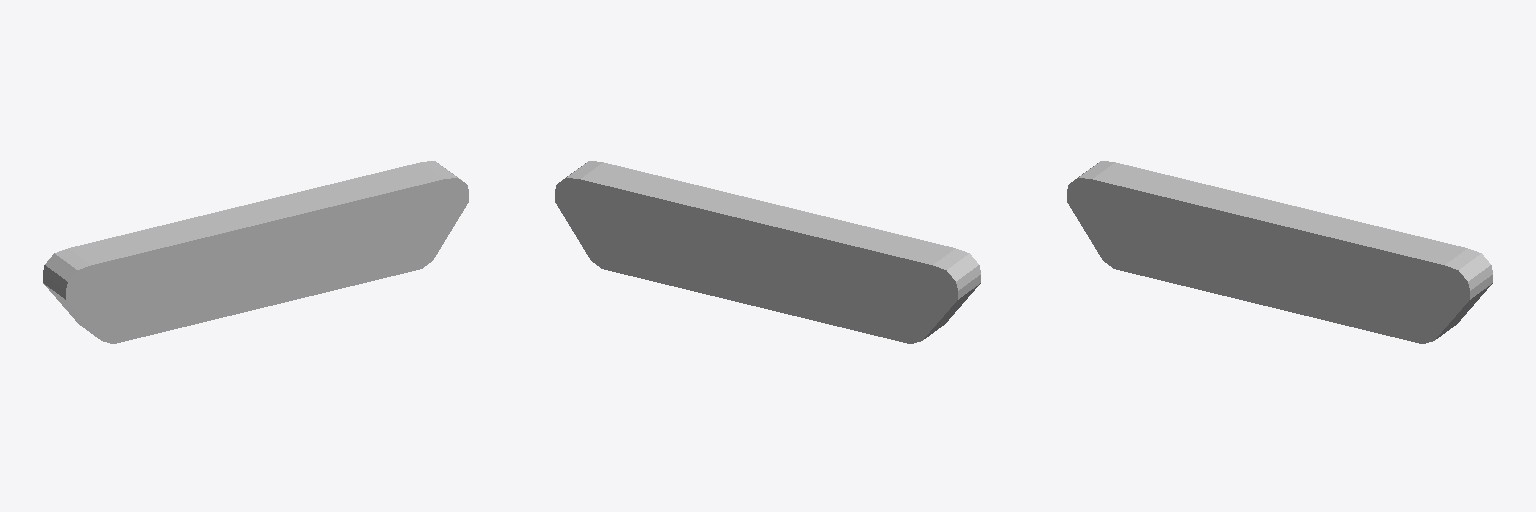
Rendered from fant_tank_track_1_collider.obj.
The picture shows the model from 3 angles: view 1: azimuth 30°, elevation 25°; view 2: azimuth 150°, elevation 25°; view 3: azimuth 330°, elevation 25°; orthographic projection.
Visible parts, largest first — view 1: fant_tank_track_1_collider_Cube.001; view 2: fant_tank_track_1_collider_Cube.001; view 3: fant_tank_track_1_collider_Cube.001.
Boxes of the visible parts, x1,y1,x2,y2 form: fant_tank_track_1_collider_Cube.001: [43, 161, 468, 343]; fant_tank_track_1_collider_Cube.001: [555, 161, 980, 343]; fant_tank_track_1_collider_Cube.001: [1067, 161, 1492, 343].
Bounding box in the file's own units: 20.02 × 4 × 2.